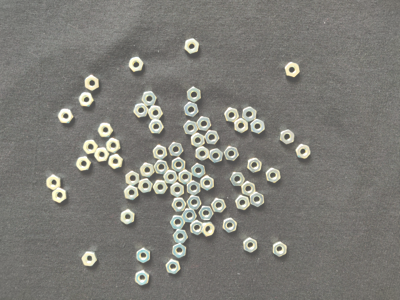nut: (82, 251, 98, 267), (108, 154, 124, 170), (47, 175, 62, 191), (52, 188, 67, 204), (76, 157, 92, 172), (94, 148, 110, 163), (124, 185, 139, 201), (163, 170, 179, 185), (166, 259, 181, 275), (184, 102, 199, 118), (211, 199, 227, 214), (223, 218, 238, 234), (243, 238, 258, 254), (234, 118, 249, 134), (242, 107, 257, 123), (250, 119, 265, 135), (285, 62, 300, 78), (135, 270, 149, 287), (273, 241, 287, 258), (129, 57, 144, 72), (120, 210, 135, 225), (142, 91, 157, 106), (149, 120, 164, 135), (140, 163, 155, 178), (154, 160, 169, 175), (153, 180, 168, 195), (172, 244, 187, 259), (187, 196, 202, 211), (199, 206, 214, 221), (205, 130, 220, 145), (209, 149, 224, 164), (224, 147, 239, 162), (224, 108, 239, 123), (247, 158, 262, 173), (266, 168, 281, 183), (280, 130, 295, 145), (58, 110, 74, 124), (83, 140, 99, 154), (170, 216, 186, 230), (187, 87, 201, 103), (192, 163, 206, 179), (236, 195, 250, 211), (242, 181, 256, 197), (250, 192, 264, 208), (79, 93, 94, 107), (85, 76, 99, 91), (98, 124, 113, 138), (106, 139, 121, 153), (126, 171, 140, 186), (134, 104, 149, 118), (148, 106, 163, 120), (138, 179, 153, 193), (153, 146, 168, 160), (173, 230, 188, 244), (172, 198, 187, 212), (170, 183, 184, 198), (169, 143, 183, 158), (187, 181, 201, 196), (182, 209, 197, 223), (201, 222, 215, 237), (185, 39, 199, 54), (184, 121, 199, 135), (191, 133, 205, 148), (197, 117, 212, 131), (196, 147, 210, 162), (230, 173, 245, 187), (296, 145, 311, 159), (137, 248, 150, 264), (179, 170, 192, 185), (190, 220, 203, 235), (201, 176, 214, 191), (172, 158, 185, 172)
